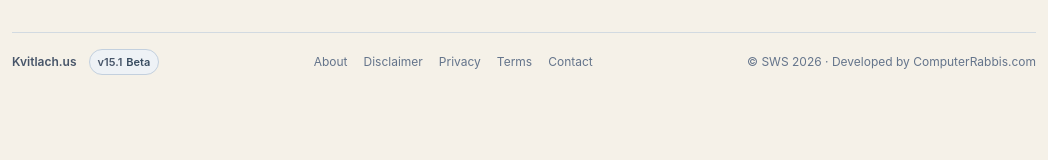
Test: the version badge's ship-date popup › toggles closed on a second click
Click the button "v15.1 Beta".
click(124, 62)  # box x1=88 y1=49 x2=159 y2=75
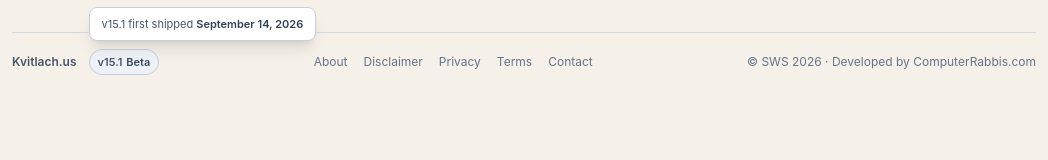
Expected: the message "v15.1 first shipped September 14, 2026" is shown, x1=88 y1=7 x2=316 y2=41
Click the button "v15.1 Beta".
click(124, 62)  # box x1=88 y1=49 x2=159 y2=75
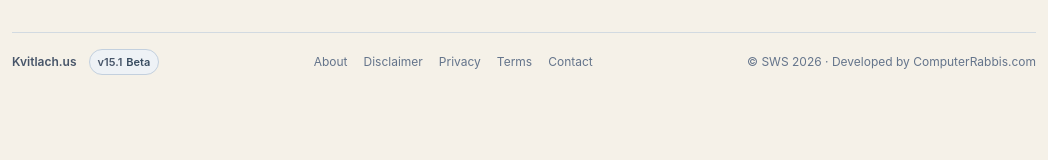
Expected: the message "v15.1 first shipped September 14, 2026" is gone
